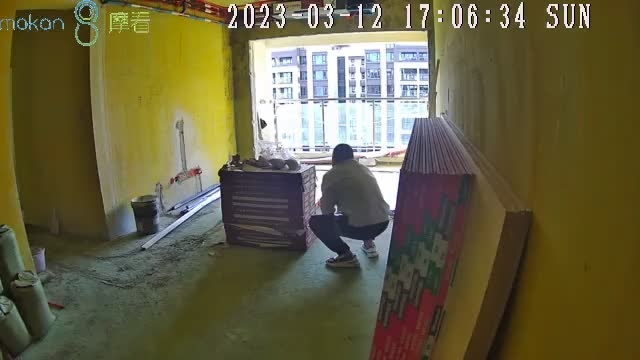people: (309, 143, 389, 268)
window: (252, 33, 433, 156)
